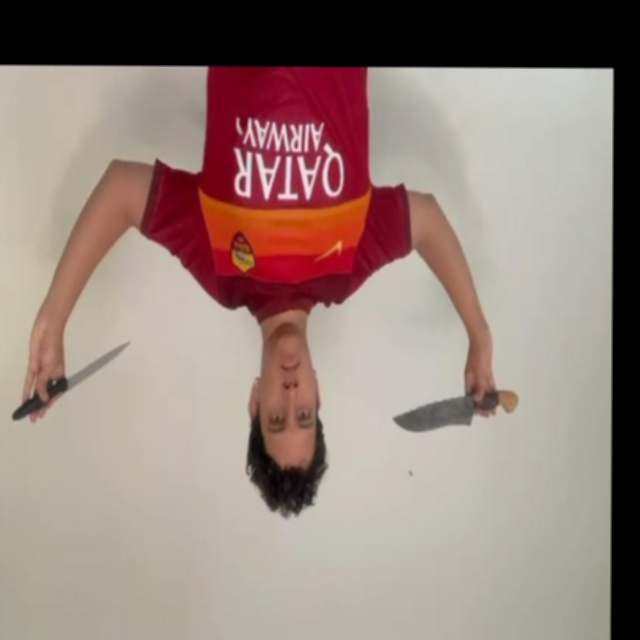Sharp-Object: (67, 341, 131, 394), (393, 396, 475, 431)
